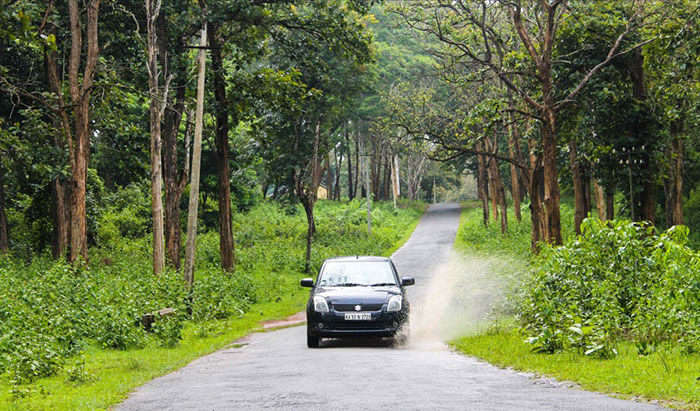car: (307, 256, 407, 347)
